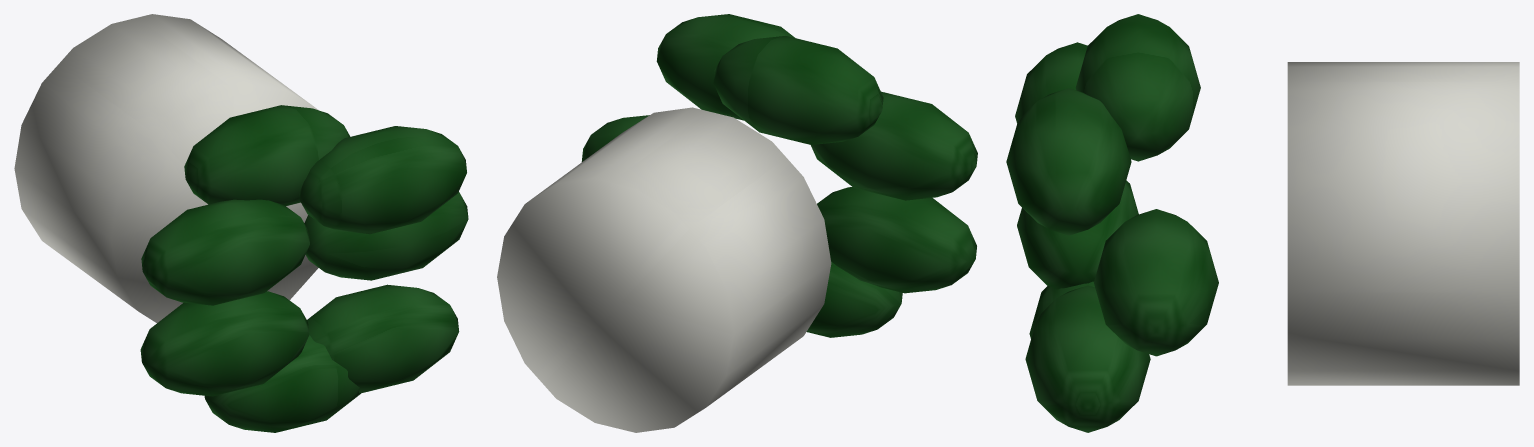
Rendered from PLANT_SMALL_DESK_001.glb.
The picture shows the model from 3 angles, left to right: view 1: azimuth 30°, elevation 25°; view 2: azimuth 150°, elevation 25°; view 3: azimuth 270°, elevation 25°; orthographic projection. The views are drawn at different scales.
Parts seen in each view (by area): view 1: small_pot_000, leaf_cluster_004, leaf_cluster_002, leaf_cluster_005, leaf_cluster_003, leaf_cluster_007, leaf_cluster_006, leaf_cluster_001; view 2: small_pot_000, leaf_cluster_003, leaf_cluster_005, leaf_cluster_004, leaf_cluster_002, leaf_cluster_006, leaf_cluster_001; view 3: small_pot_000, leaf_cluster_001, leaf_cluster_002, leaf_cluster_003, leaf_cluster_007, leaf_cluster_005, leaf_cluster_004, leaf_cluster_006.
Part boxes in pixels (x1,y1,x2,y2): small_pot_000: (14, 14, 318, 322); leaf_cluster_004: (141, 199, 309, 305); leaf_cluster_002: (299, 126, 466, 234); leaf_cluster_005: (140, 291, 309, 396); leaf_cluster_003: (184, 105, 350, 205); leaf_cluster_007: (307, 284, 459, 392); leaf_cluster_006: (204, 335, 361, 432); leaf_cluster_001: (304, 192, 468, 280); small_pot_000: (497, 107, 831, 432); leaf_cluster_003: (713, 36, 883, 144); leaf_cluster_005: (817, 187, 976, 293); leaf_cluster_004: (811, 91, 977, 200); leaf_cluster_002: (656, 14, 794, 120); leaf_cluster_006: (806, 261, 902, 337); leaf_cluster_001: (581, 115, 649, 161); small_pot_000: (1287, 62, 1519, 385); leaf_cluster_001: (1094, 209, 1218, 356); leaf_cluster_002: (1006, 88, 1131, 235); leaf_cluster_003: (1075, 14, 1200, 161); leaf_cluster_007: (1025, 285, 1150, 432); leaf_cluster_005: (1017, 180, 1138, 289); leaf_cluster_004: (1015, 42, 1087, 123); leaf_cluster_006: (1029, 281, 1094, 338).
Size of the model in its own units: 0.2131 by 0.171 by 0.2213.
2 materials, 2 textured.
